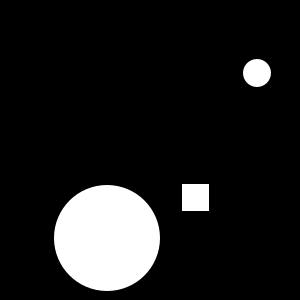circle: (182, 184, 209, 211)
rectangle: (54, 185, 160, 291), (243, 59, 271, 87)
